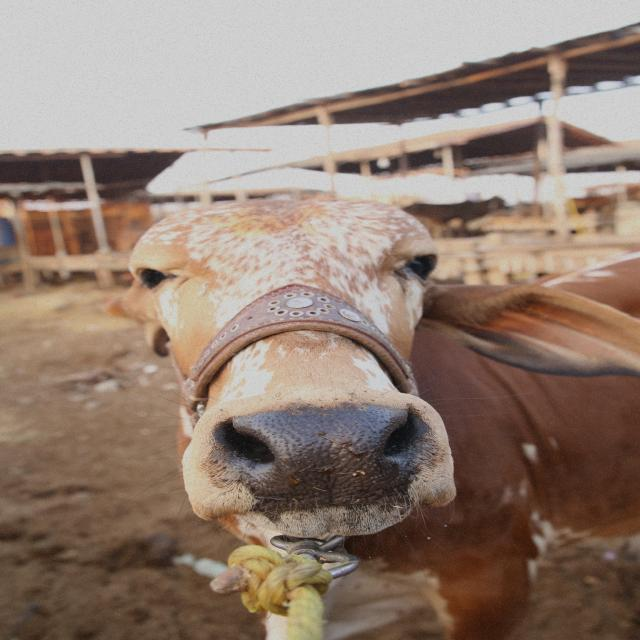muzzles: (198, 399, 446, 512)
